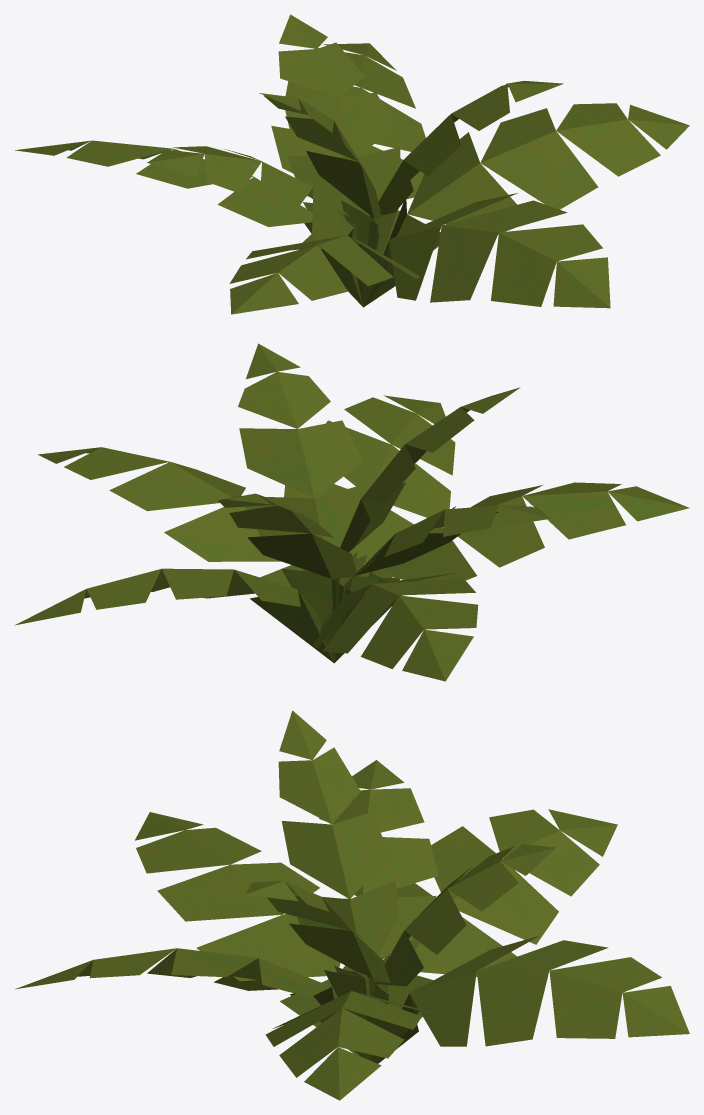
The model's file is Plant_01.fbx.
The picture shows the model from 3 angles, top to bottom: view 1: azimuth 30°, elevation 25°; view 2: azimuth 150°, elevation 25°; view 3: azimuth 270°, elevation 25°; orthographic projection. The views are drawn at different scales.
Parts seen in each view (by area): view 1: polySurface5; view 2: polySurface5; view 3: polySurface5.
Part boxes in pixels (x1,y1,x2,y2): polySurface5: [15, 14, 689, 314]; polySurface5: [14, 343, 689, 681]; polySurface5: [15, 710, 689, 1100].
Bounding box in the file's own units: 157 × 75.72 × 163.
